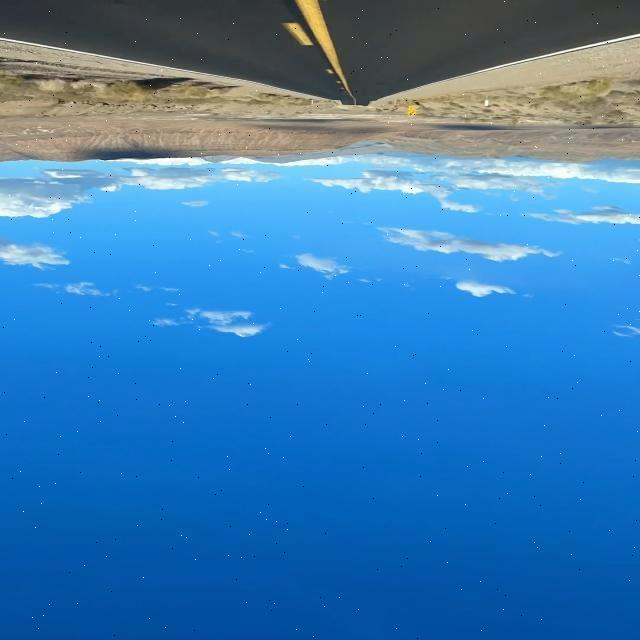lane: (295, 1, 356, 105), (282, 22, 313, 45)
road: (0, 1, 639, 105)
